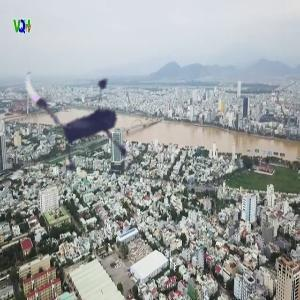drone: (15, 38, 165, 188)
